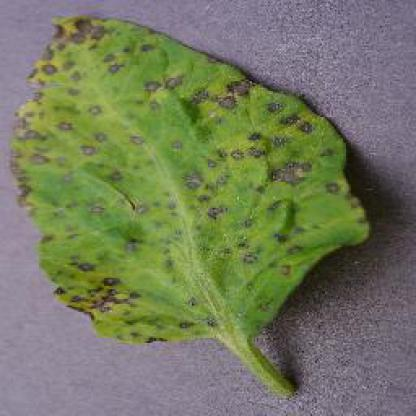bad leaf: (12, 11, 339, 322)
